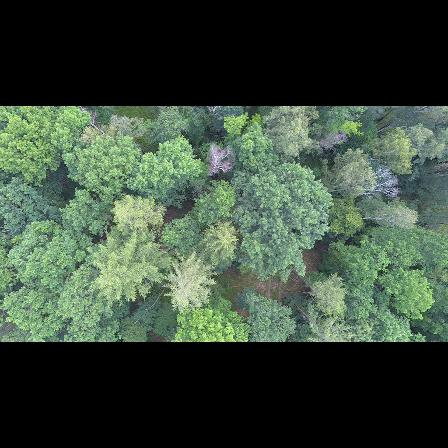Dead: (359, 166, 403, 201), (206, 141, 237, 178), (315, 127, 350, 155)
